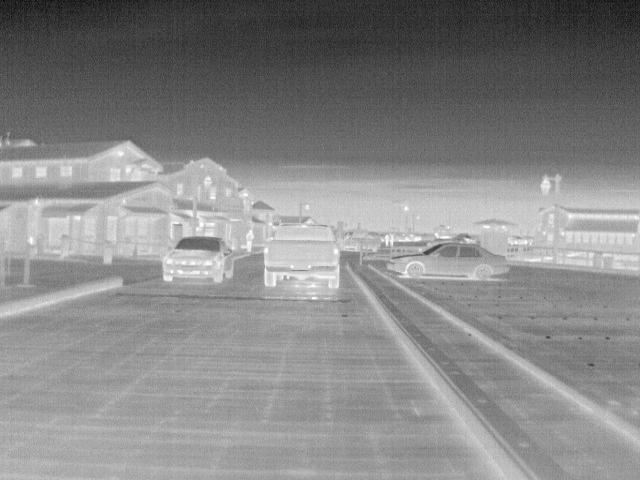car: (259, 222, 343, 289), (385, 241, 511, 280), (159, 235, 238, 284)
person: (242, 227, 256, 256)
